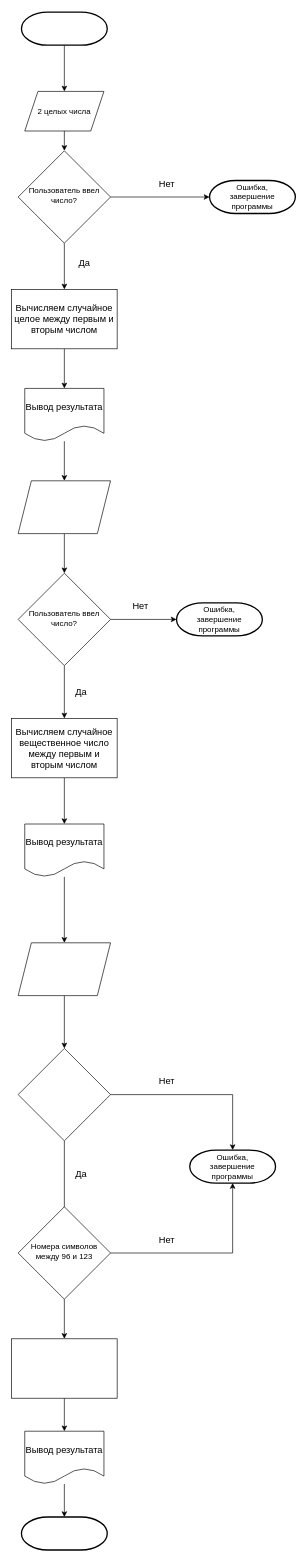
Image size: 308x1562. Some labels were removed from this diagram. The centre of each missing label's shape, as x and y in pixels:
"2 вещественных числа" goes at [64,507].
"2 символа латинского алфавита" goes at [64,969].
"Вычисляем случайный символ между первым и вторым пользовательским символом" goes at [64,1368].
"Конец" goes at [64,1533].
"Начало" goes at [64,28].
"Пользователь ввел по одному символу" goes at [64,1094].
